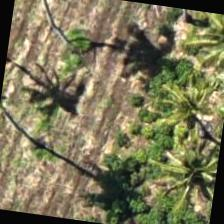Kelapa_Sawit: (0, 35, 101, 138), (142, 58, 223, 159), (146, 120, 222, 218)
